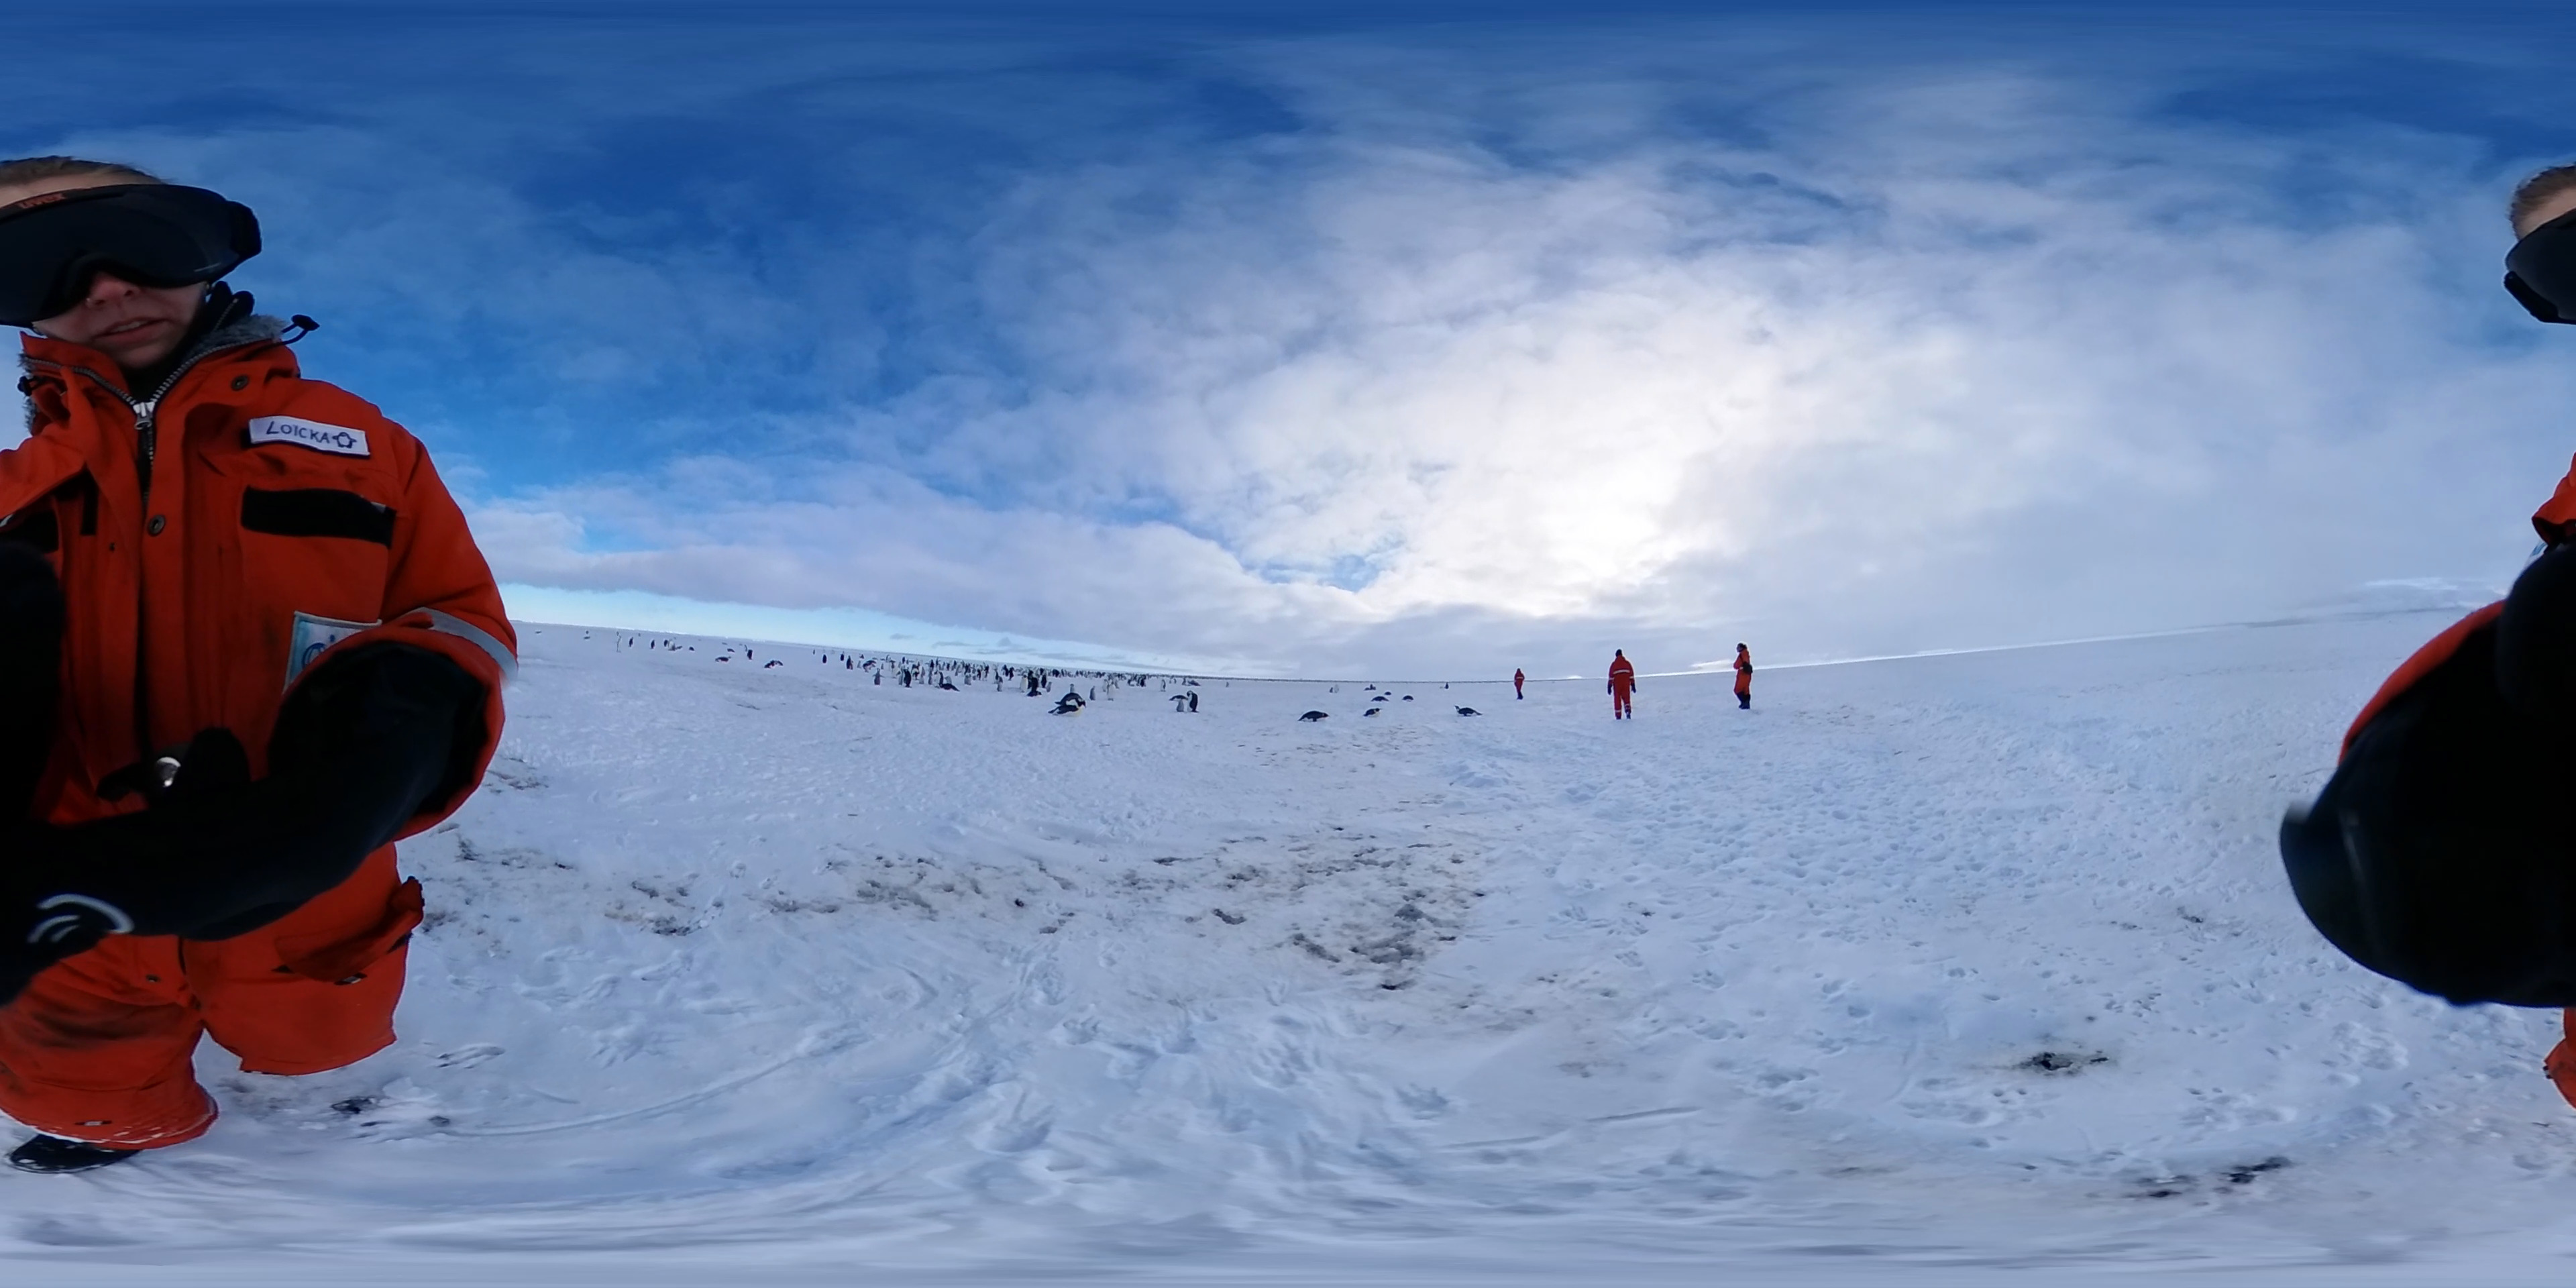adult_standing_penguin: (1189, 688, 1199, 713)
adult_toboggan_penguin: (1298, 708, 1332, 724), (1046, 703, 1084, 716), (1452, 705, 1483, 718), (1360, 705, 1383, 720)
juvenile_penguin: (871, 667, 884, 687), (1176, 695, 1186, 713)
researcher: (0, 148, 517, 1189), (2274, 145, 2576, 1166), (1607, 644, 1640, 720), (1723, 641, 1756, 706), (1511, 665, 1526, 700)
